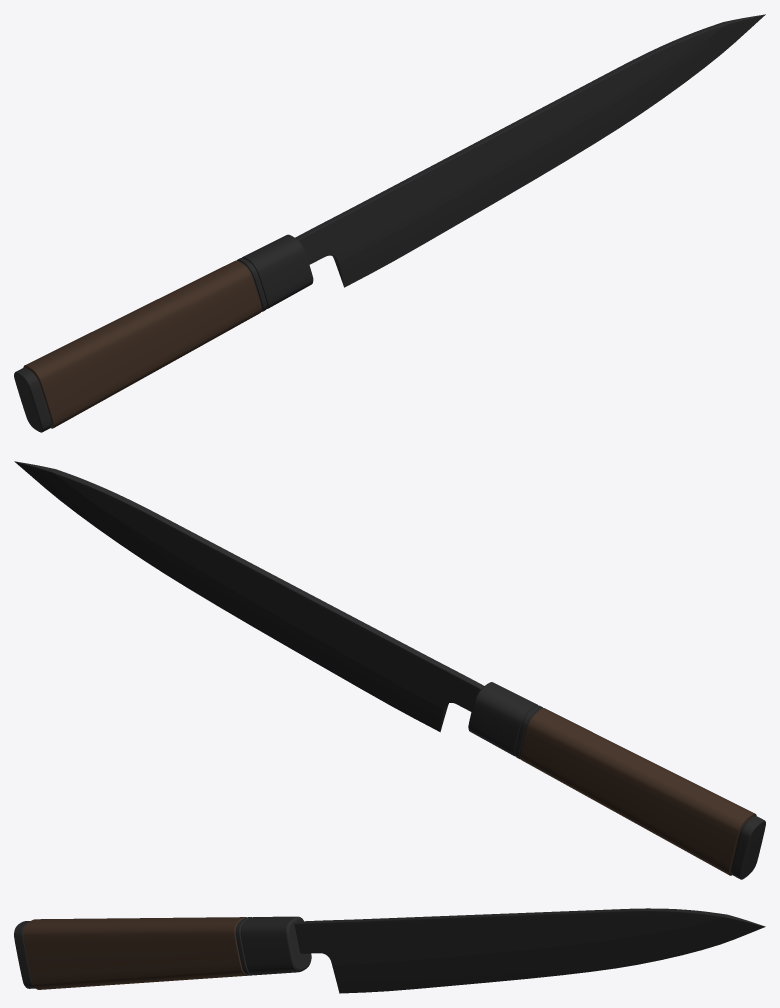
The model's file is knife_chop.fbx.
3 views of the same model, one above another, from view 1: azimuth 30°, elevation 25°; view 2: azimuth 150°, elevation 25°; view 3: azimuth 330°, elevation 25° (orthographic).
Parts seen in each view (by area): view 1: pCube3; view 2: pCube3; view 3: pCube3.
Part boxes in pixels (left/top/right/bottom): pCube3: left=14, top=14, right=765, bottom=432; pCube3: left=14, top=461, right=765, bottom=879; pCube3: left=14, top=908, right=765, bottom=993.
Bounding box in the file's own units: 38.4 × 11.76 × 1.75.
